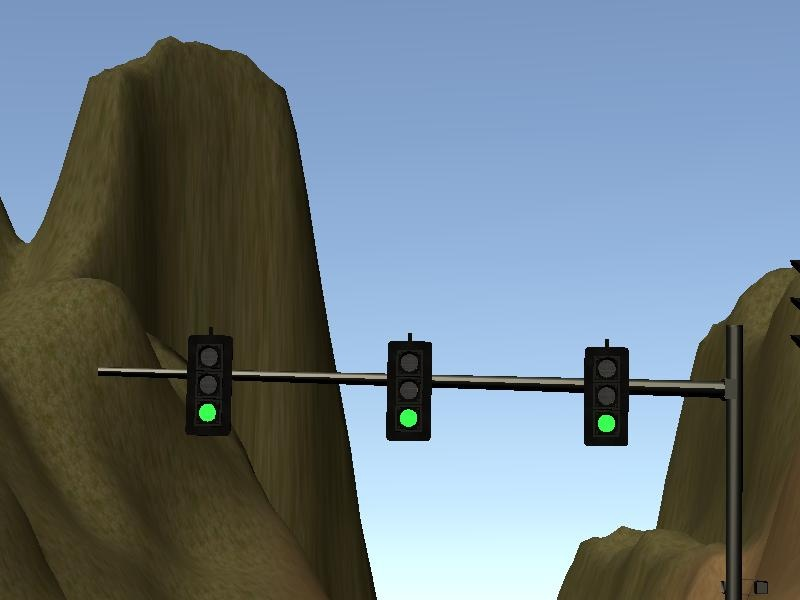green: (578, 343, 633, 450), (183, 332, 236, 441), (386, 338, 433, 441)
